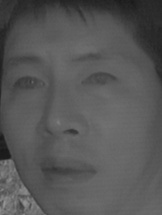eye: (80, 69, 119, 90), (9, 73, 45, 95)
mouth: (38, 152, 97, 194)
